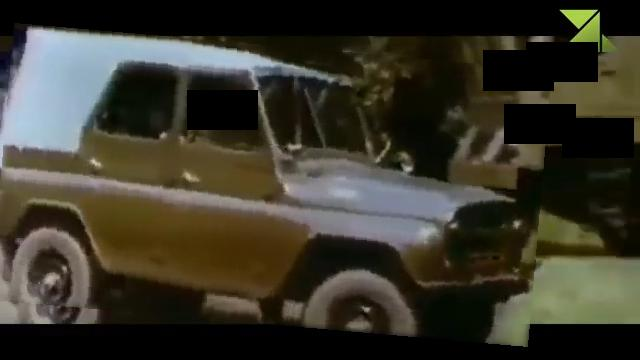MIL_HMMWV: (0, 34, 545, 335)
